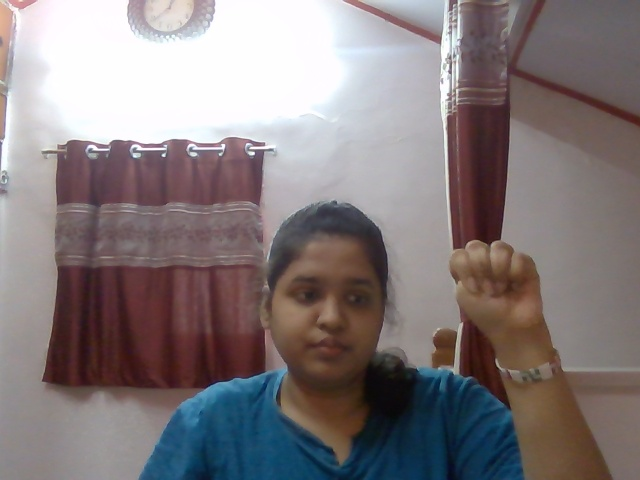m: (433, 237, 562, 337)
